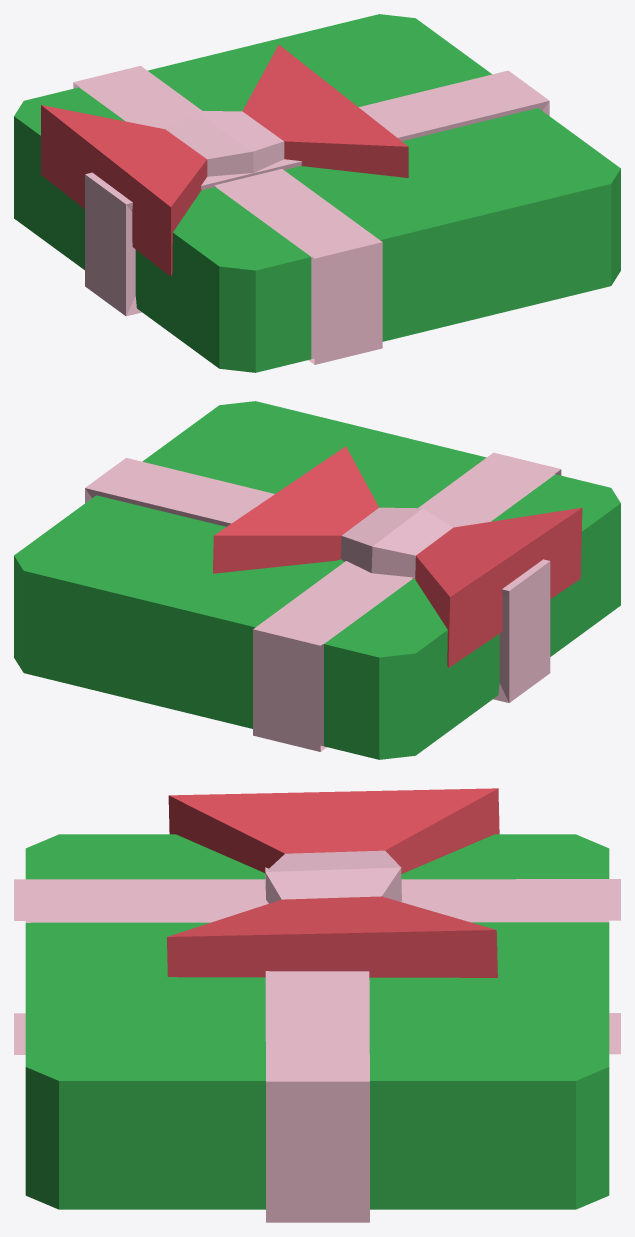
Rendered from gift_greenn.fbx.
The picture shows the model from 3 angles, top to bottom: view 1: azimuth 30°, elevation 25°; view 2: azimuth 150°, elevation 25°; view 3: azimuth 270°, elevation 25°; orthographic projection. The views are drawn at different scales.
Parts seen in each view (by area): view 1: Cube.111; view 2: Cube.111; view 3: Cube.111.
Part boxes in pixels (x1,y1,x2,y2): Cube.111: (14, 14, 620, 372); Cube.111: (14, 401, 620, 759); Cube.111: (14, 788, 620, 1222).
Size of the model in its own units: 109 by 35.53 by 107.
